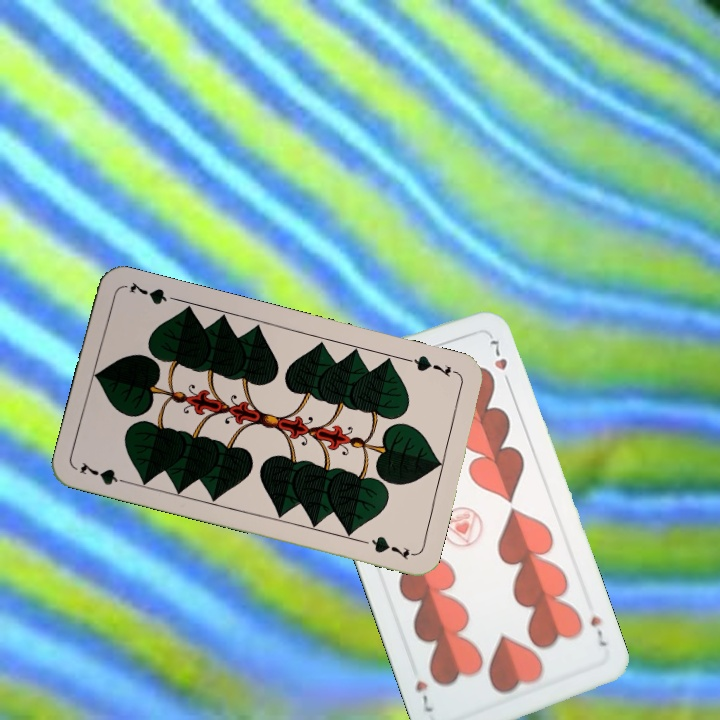G7: (403, 351, 461, 380), (76, 459, 133, 488)
H7: (586, 611, 609, 649)
